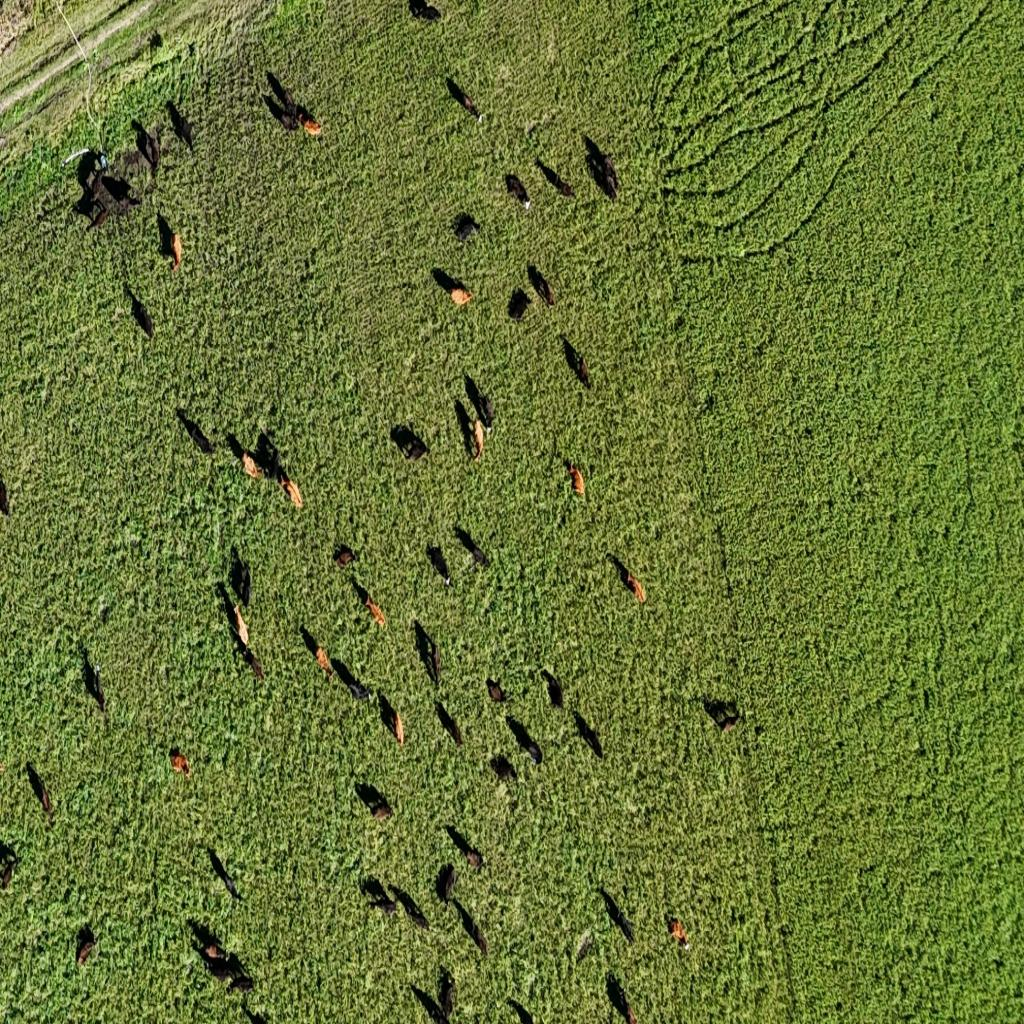cow: (2, 760, 64, 900), (217, 584, 265, 682), (334, 548, 390, 628), (198, 929, 256, 995), (254, 432, 303, 509), (583, 136, 619, 200), (602, 886, 636, 946), (454, 898, 488, 958), (446, 823, 486, 874), (610, 554, 648, 606), (446, 74, 484, 125), (330, 658, 372, 704), (26, 760, 56, 824), (208, 846, 242, 902), (507, 716, 543, 768), (390, 884, 430, 930), (465, 406, 495, 466), (166, 98, 197, 155), (465, 372, 495, 430), (81, 646, 105, 718), (125, 284, 155, 340), (302, 627, 333, 681), (178, 410, 216, 454), (606, 972, 638, 1024), (456, 523, 492, 569), (192, 921, 228, 967), (132, 119, 162, 174), (536, 159, 577, 199), (354, 780, 392, 822), (73, 177, 106, 225), (216, 581, 243, 639), (563, 338, 591, 392), (432, 271, 474, 307), (362, 877, 398, 918), (264, 93, 300, 134), (574, 711, 604, 760), (455, 398, 478, 461), (392, 425, 429, 463), (379, 694, 405, 748), (527, 263, 557, 308), (435, 700, 464, 746), (704, 698, 739, 734), (231, 550, 252, 608), (258, 428, 284, 474), (426, 543, 452, 587), (541, 668, 565, 712), (77, 149, 102, 190), (505, 172, 531, 210), (75, 924, 97, 968), (451, 214, 481, 246), (438, 970, 456, 1021), (508, 288, 533, 324), (491, 755, 517, 789), (0, 840, 18, 889), (437, 862, 457, 904), (567, 456, 587, 496), (242, 450, 267, 482), (507, 996, 535, 1024), (408, 0, 442, 23), (668, 918, 690, 952), (170, 748, 192, 780), (298, 108, 322, 136), (486, 676, 509, 704), (608, 552, 631, 580), (576, 929, 593, 963), (430, 639, 442, 684), (334, 545, 356, 569), (0, 476, 12, 518), (148, 30, 162, 52), (98, 603, 110, 625)
